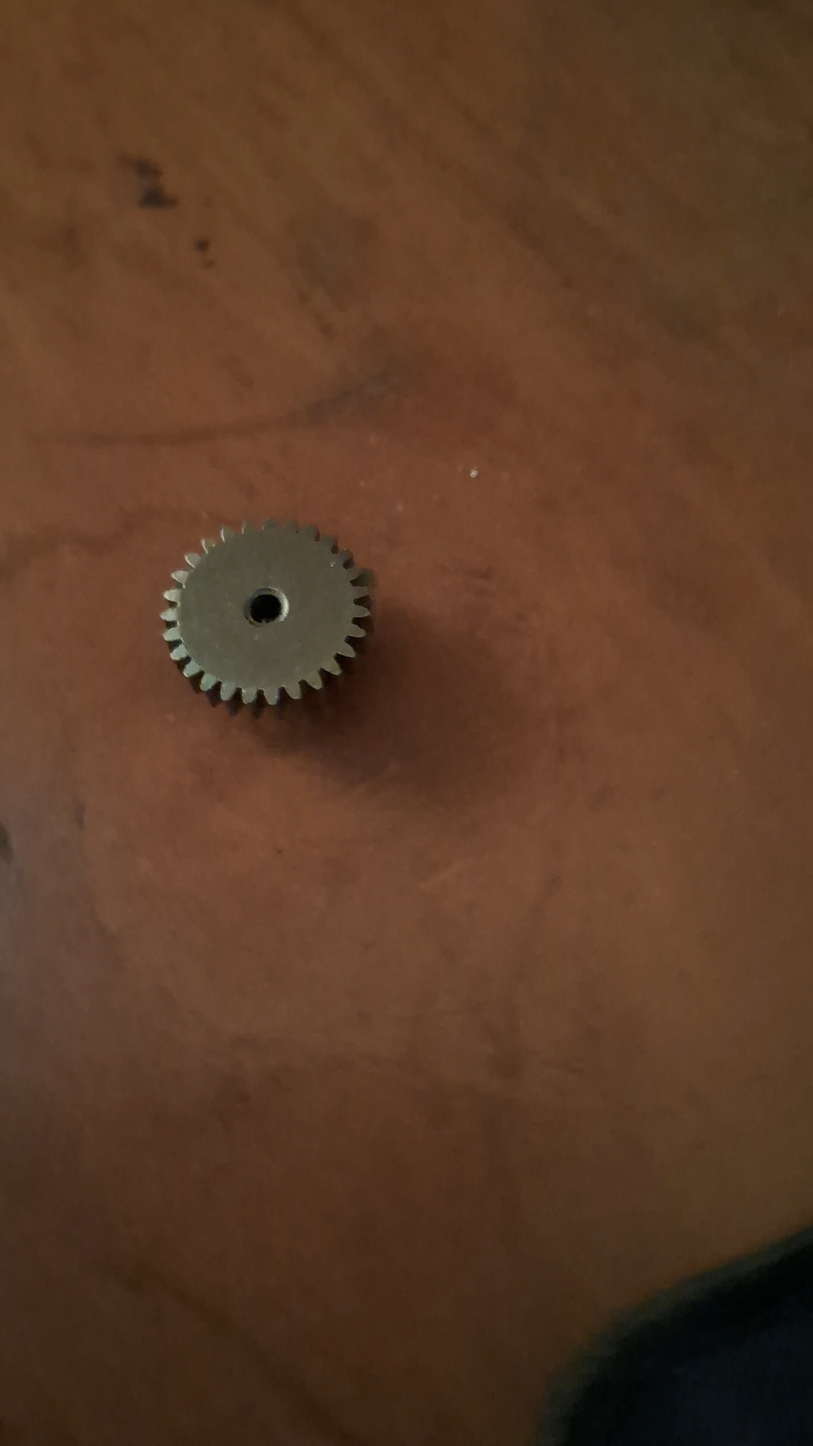spur gear: (161, 521, 369, 705)
